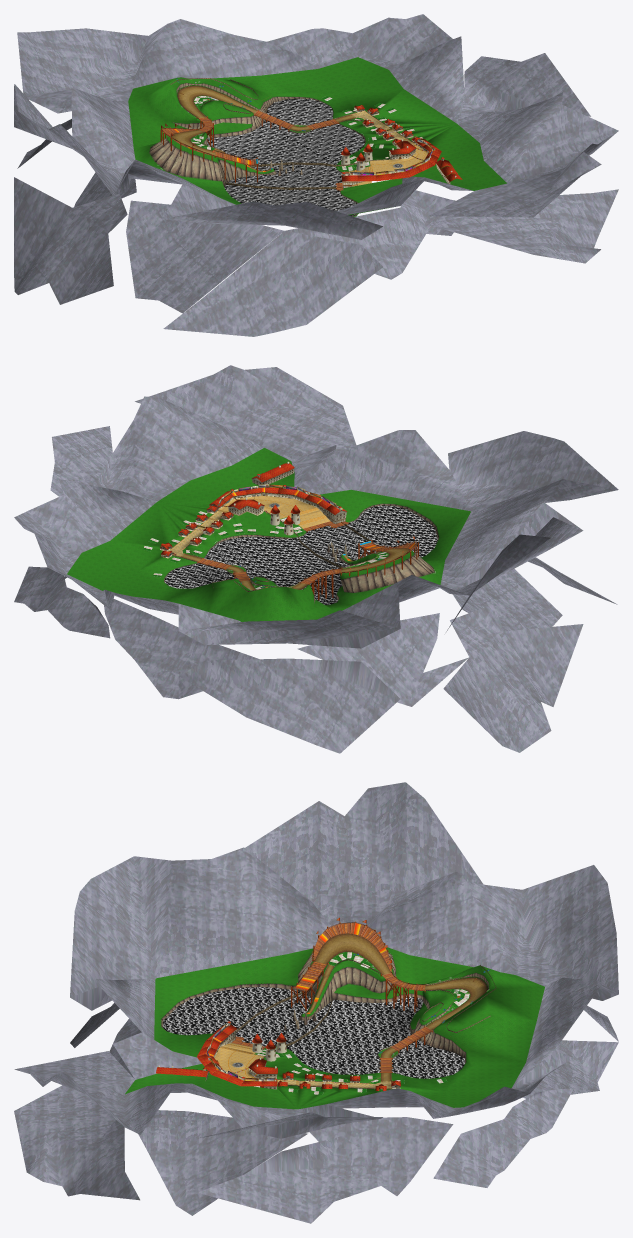
3 renders of one model, top to bottom at view 1: azimuth 30°, elevation 25°; view 2: azimuth 150°, elevation 25°; view 3: azimuth 270°, elevation 25°, orthographic. The views are drawn at different scales.
Visible parts, largest first — view 1: Gctr_GlideLake_perm, Gctr_GlideLake, ID120, ID104, ID80, ID96, ID138, ID112, ID88, ID178; view 2: Gctr_GlideLake_perm, Gctr_GlideLake, ID120, ID104, ID138, ID80, ID96, ID112, ID178, ID88; view 3: Gctr_GlideLake_perm, Gctr_GlideLake, ID120, ID104, ID96, ID80, ID138, ID88, ID178, ID112.
Part boxes in pixels (left/top/right/bottom): Gctr_GlideLake_perm: left=14, top=14, right=618, bottom=336; Gctr_GlideLake: left=128, top=57, right=506, bottom=215; ID120: left=207, top=98, right=401, bottom=215; ID104: left=148, top=82, right=456, bottom=216; ID80: left=162, top=78, right=428, bottom=190; ID96: left=171, top=85, right=425, bottom=173; ID138: left=341, top=105, right=462, bottom=181; ID112: left=163, top=92, right=455, bottom=190; ID88: left=192, top=96, right=422, bottom=171; ID178: left=349, top=145, right=428, bottom=186; Gctr_GlideLake_perm: left=14, top=365, right=618, bottom=753; Gctr_GlideLake: left=67, top=448, right=470, bottom=621; ID120: left=165, top=503, right=437, bottom=604; ID104: left=159, top=462, right=439, bottom=605; ID138: left=160, top=463, right=346, bottom=556; ID80: left=168, top=495, right=417, bottom=591; ID96: left=168, top=499, right=410, bottom=590; ID112: left=160, top=461, right=418, bottom=587; ID178: left=219, top=495, right=330, bottom=528; ID88: left=143, top=511, right=388, bottom=589; Gctr_GlideLake_perm: left=14, top=782, right=618, bottom=1223; Gctr_GlideLake: left=125, top=947, right=544, bottom=1109; ID120: left=162, top=987, right=464, bottom=1078; ID104: left=158, top=918, right=488, bottom=1089; ID96: left=220, top=933, right=488, bottom=1088; ID80: left=216, top=922, right=496, bottom=1089; ID138: left=156, top=1021, right=400, bottom=1090; ID88: left=257, top=952, right=469, bottom=1094; ID178: left=214, top=1043, right=264, bottom=1080; ID112: left=159, top=921, right=476, bottom=1089.
Bounding box in the file's own units: 156042 × 61879 × 145930.
15 materials, 15 textured.
